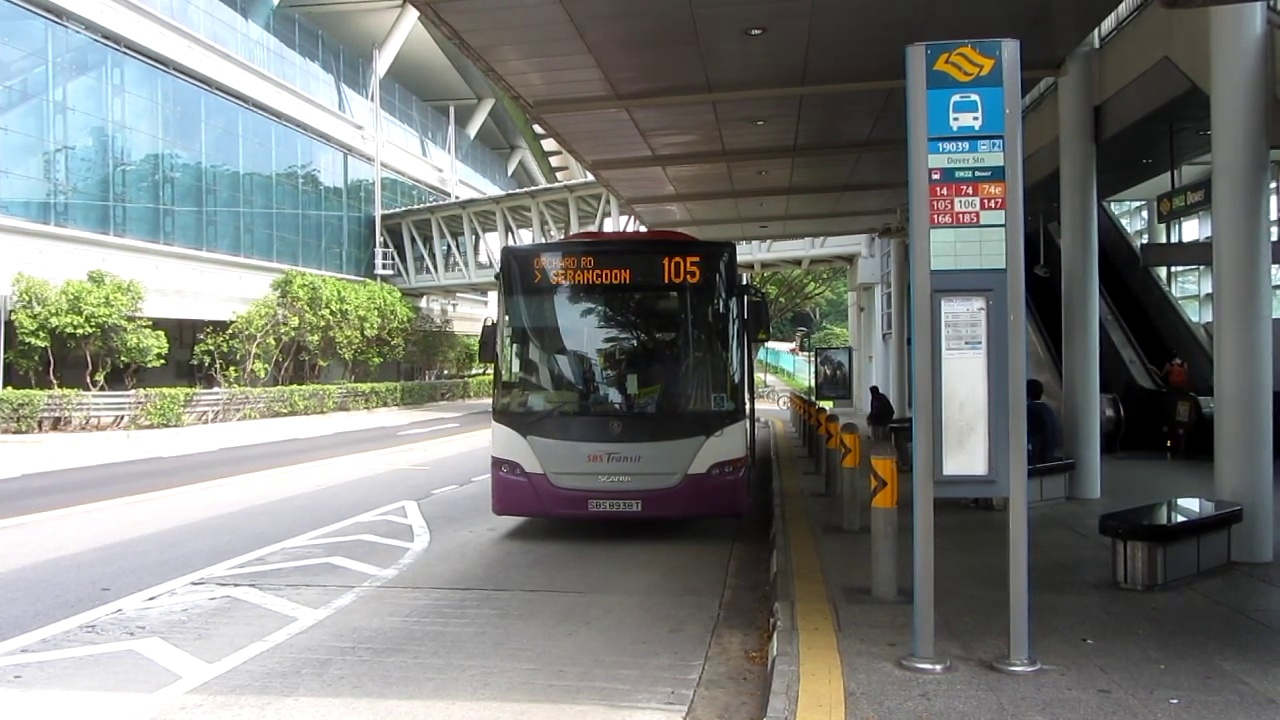bus panel: (526, 252, 705, 288)
